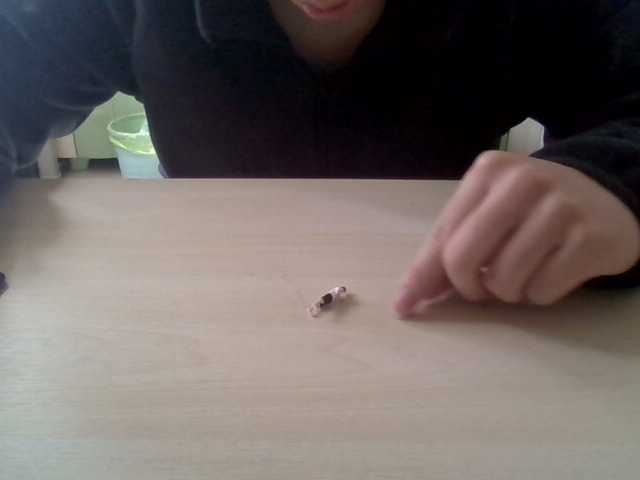fall: (302, 282, 352, 322)
